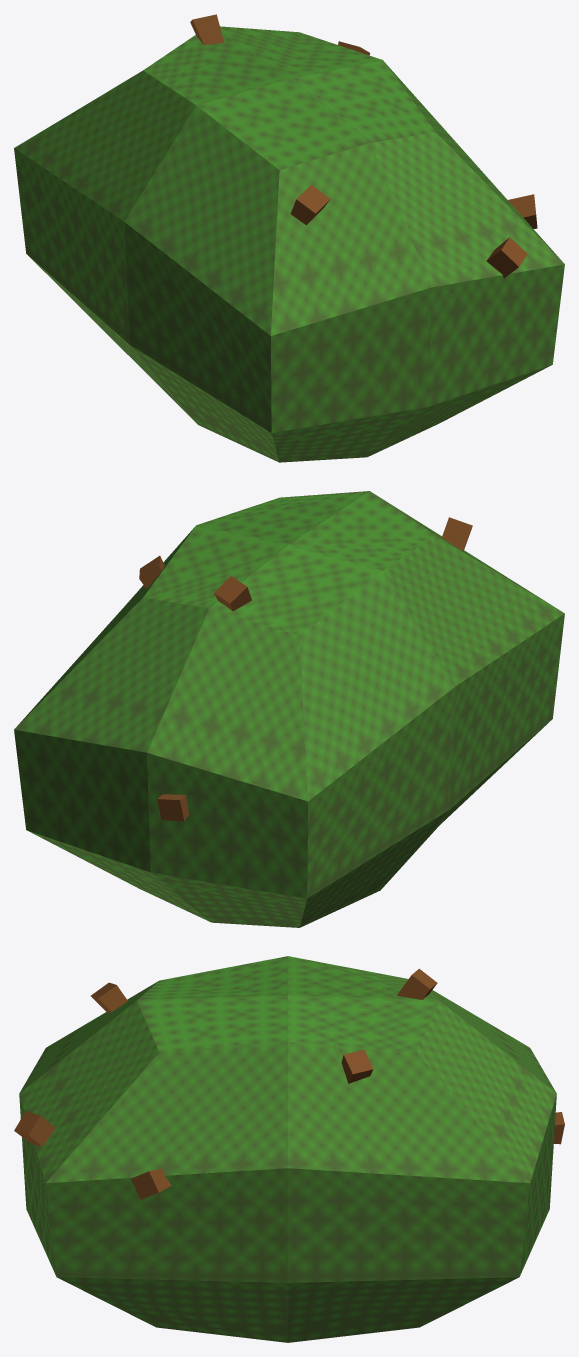
File: Buisson.fbx
The picture shows the model from 3 angles, top to bottom: view 1: azimuth 30°, elevation 25°; view 2: azimuth 150°, elevation 25°; view 3: azimuth 270°, elevation 25°; orthographic projection. The views are drawn at different scales.
Parts seen in each view (by area): view 1: Buisson; view 2: Buisson; view 3: Buisson.
Part boxes in pixels (x1,y1,x2,y2): Buisson: (14,14,564,462); Buisson: (14,491,564,927); Buisson: (14,956,564,1342).
Size of the model in its own units: 423 by 429 by 624.
Materials: 2 (1 with a texture image).
